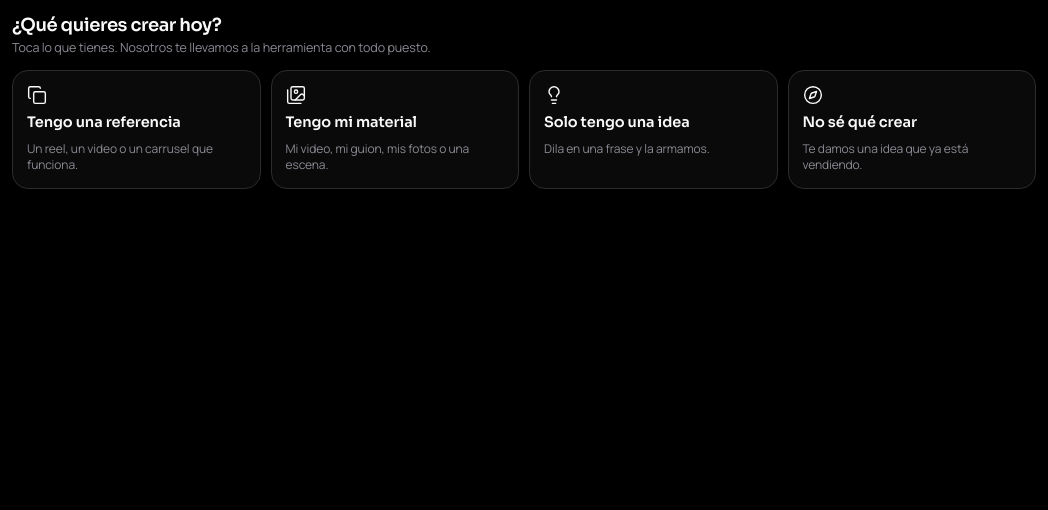
Test case: ¿Qué quieres crear hoy? · 4 entradas por lo que tienes (Guardián del Creador) › referencia: un reel llega a Analiza un Reel con el enlace puesto
Later steps or results of the test are not shown.
Click the text "Tengo una referencia" at (104, 123), box [27, 113, 181, 133]
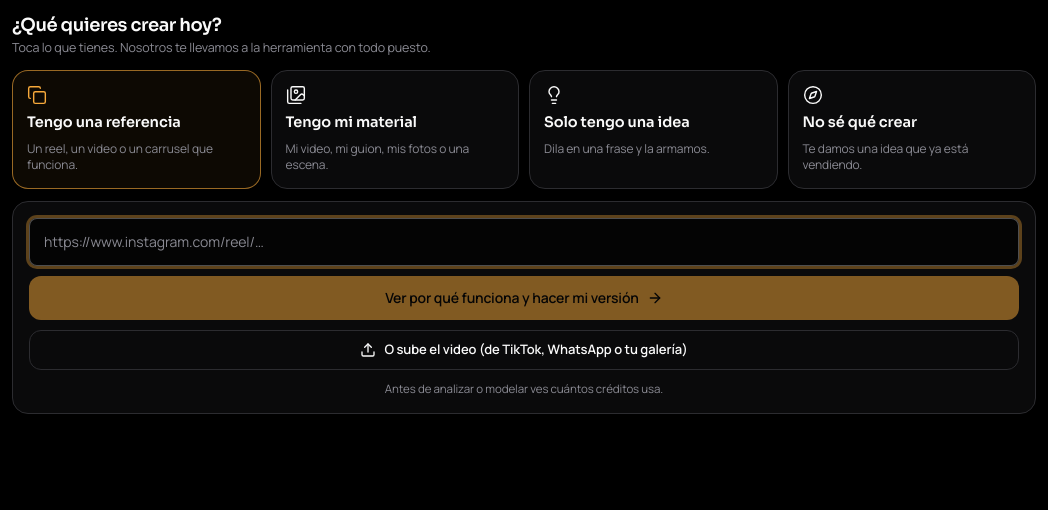
Check: the button "Ver por qué funciona y hacer mi versión" is disabled, box [29, 276, 1019, 320]
Type "https://www.instagram.com/reel/ABC123xyz/" into the field named "Enlace de la referencia" at (524, 242), box [29, 218, 1019, 266]
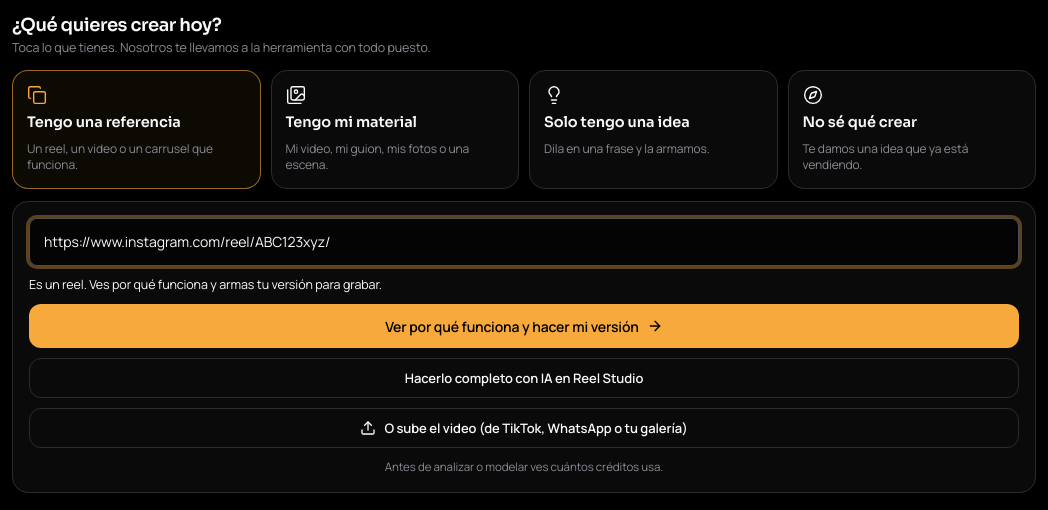
Check: the text "Es un reel" is shown, box [29, 276, 382, 293]
